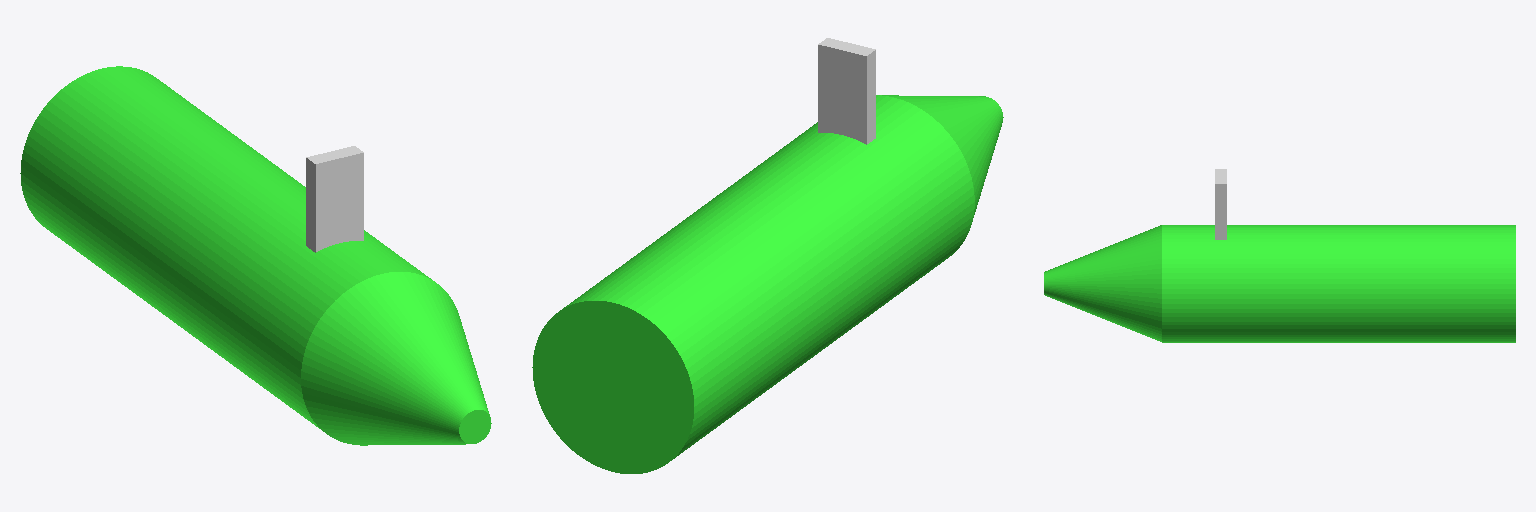
robot.urdf — dispenser_1:
<?xml version="0.0" ?>
<robot name="dispenser_1">
  <link name="base_link">
  <contact>
      <lateral_friction value="1"/>
  </contact>
    <inertial>
      <origin rpy="0 0 0" xyz="0 0 0"/>
       <mass value="0.2"/>
       <inertia ixx="0.001" ixy="0" ixz="0" iyy="0.001" iyz="0" izz="0.001"/>
    </inertial>
    <visual>
      <origin rpy="0 0 0" xyz="0 0 0"/>
      <geometry>
				<mesh filename="dispenser.obj" scale="0.001 0.001 0.001"/>
      </geometry>
       <material name="greenish">
        <color rgba="0.3 1 0.3 1"/>
      </material>
    </visual>
    <collision>
      <origin rpy="0 0 0" xyz="0 0 0"/>
      <geometry>
				<mesh filename="dispenser.obj" scale="0.001 0.001 0.001"/>
      </geometry>
    </collision>
  </link>
  <link
    name="knob">
    <inertial>
      <origin xyz="0 0 0" rpy="0 0 0" />
      <mass
        value="0.001" />
      <inertia
        ixx="2.66832029033166E-07"
        ixy="1.66142314639824E-15"
        ixz="1.45945633322873E-07"
        iyy="1.3889233257419E-06"
        iyz="2.82951161241588E-15"
        izz="1.26603336914415E-06" />
    </inertial>
    <visual>
      <origin xyz="0 0 0" rpy="0 0 0" />
      <geometry>
        <mesh filename="../cube_like/cube.obj" scale="0.03 0.01 0.1" />
      </geometry>
      <material name="">
        <color rgba="0.9 0.9 0.9 1" />
      </material>
    </visual>
    <collision>
      <origin xyz="0 0 0" rpy="0 0 0" />
      <geometry>
        <mesh filename="../cube_like/cube.obj" scale="0.03 0.01 0.1" />
      </geometry>
    </collision>
  </link>
  <joint
    name="knob_joint"
    type="revolute">
    <origin xyz="0 0.2 0.05" rpy="0 0 0" />
    <parent link="base_link" />
    <child link="knob" />
    <axis xyz="1 0 0" />
    <limit lower="-1.57" upper="1.57" velocity="2.0" effort="1" />
  </joint>
</robot>

--- What the picture shows (computed from the rendered views, not written in the file) ---
3 views of the same robot in one strip: view 1: azimuth 30°, elevation 25°; view 2: azimuth 150°, elevation 25°; view 3: azimuth 270°, elevation 25° (orthographic).
Model dispenser_1 with 2 links and 1 joints (1 revolute), rooted at base_link, posed all joints at 0.
Visible links, largest first — view 1: base_link, knob; view 2: base_link, knob; view 3: base_link, knob.
Boxes of the visible links, x1,y1,x2,y2 form: base_link: [20, 66, 491, 445]; knob: [306, 146, 363, 252]; base_link: [532, 95, 1003, 473]; knob: [818, 38, 875, 144]; base_link: [1044, 225, 1515, 342]; knob: [1215, 169, 1226, 239].
Size in the robot's own frame: 0.1 by 0.4 by 0.15 metres.
Meshes: 2 distinct files referenced, 2 mesh visuals loaded (2 OBJ).
